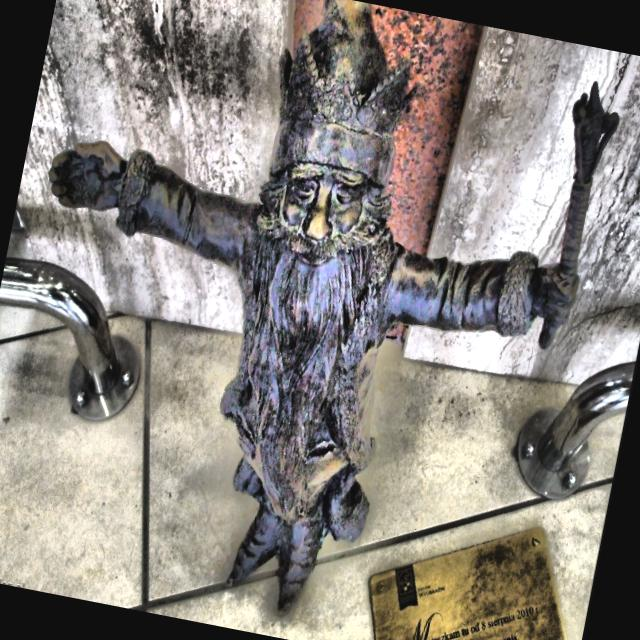Serdecznis: (50, 0, 620, 619)
